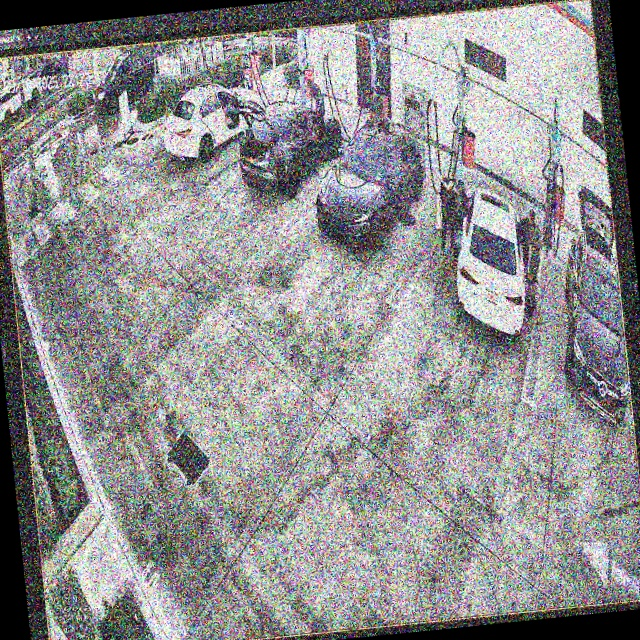Car: (436, 171, 546, 347), (308, 117, 433, 260), (233, 91, 346, 196), (161, 78, 268, 169)
